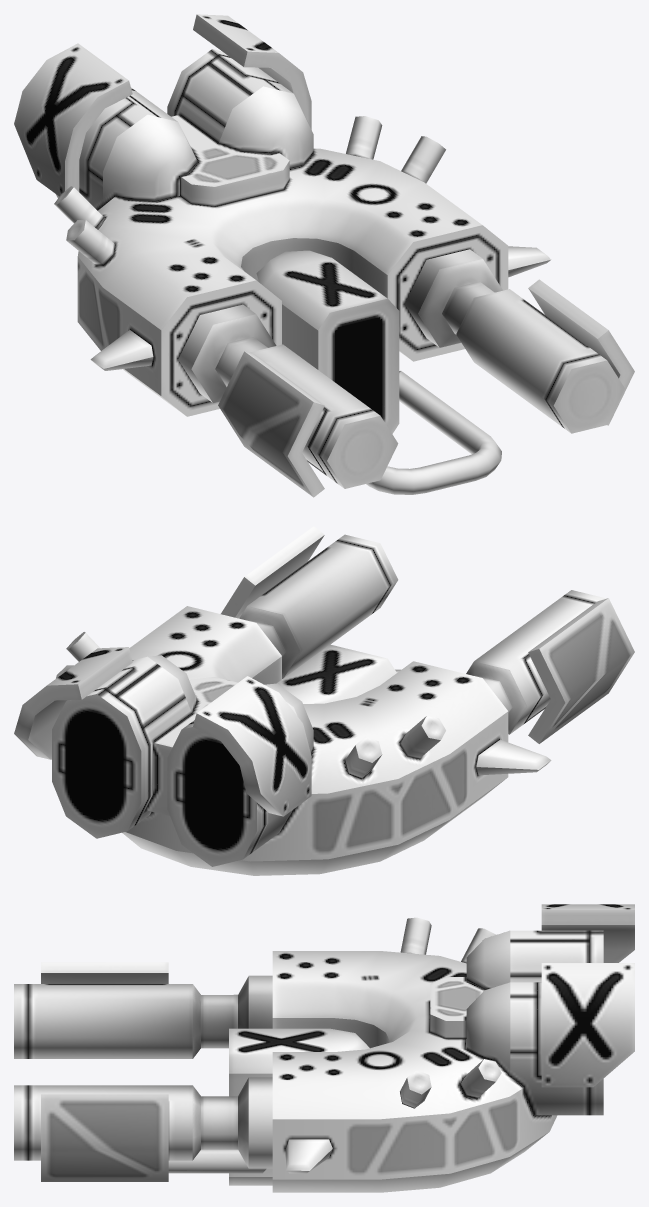
The model's file is Enemy_Gatling.FBX.
3 views of the same model, one above another, from view 1: azimuth 30°, elevation 25°; view 2: azimuth 150°, elevation 25°; view 3: azimuth 270°, elevation 25° (orthographic). The views are drawn at different scales.
Parts seen in each view (by area): view 1: Enemy_Gatling, Enemy_Gatling_Up_Armor, Enemy_Gatling_Up_Gun, Enemy_Gatling_Up_Speed; view 2: Enemy_Gatling, Enemy_Gatling_Up_Armor, Enemy_Gatling_Up_Gun, Enemy_Gatling_Up_Speed; view 3: Enemy_Gatling, Enemy_Gatling_Up_Armor, Enemy_Gatling_Up_Gun, Enemy_Gatling_Up_Speed.
Boxes of the visible parts, x1=… form: Enemy_Gatling: x1=54, y1=49, x2=624, y2=494; Enemy_Gatling_Up_Armor: x1=14, y1=14, x2=311, y2=196; Enemy_Gatling_Up_Gun: x1=218, y1=279, x2=634, y2=497; Enemy_Gatling_Up_Speed: x1=90, y1=246, x2=550, y2=370; Enemy_Gatling: x1=52, y1=534, x2=606, y2=875; Enemy_Gatling_Up_Armor: x1=14, y1=647, x2=311, y2=816; Enemy_Gatling_Up_Gun: x1=221, y1=526, x2=634, y2=743; Enemy_Gatling_Up_Speed: x1=476, y1=739, x2=551, y2=775; Enemy_Gatling: x1=14, y1=917, x2=603, y2=1192; Enemy_Gatling_Up_Armor: x1=541, y1=904, x2=634, y2=1087; Enemy_Gatling_Up_Gun: x1=41, y1=962, x2=168, y2=1181; Enemy_Gatling_Up_Speed: x1=286, y1=1139, x2=332, y2=1173.
Size of the model in its own units: 226 by 124 by 295.
